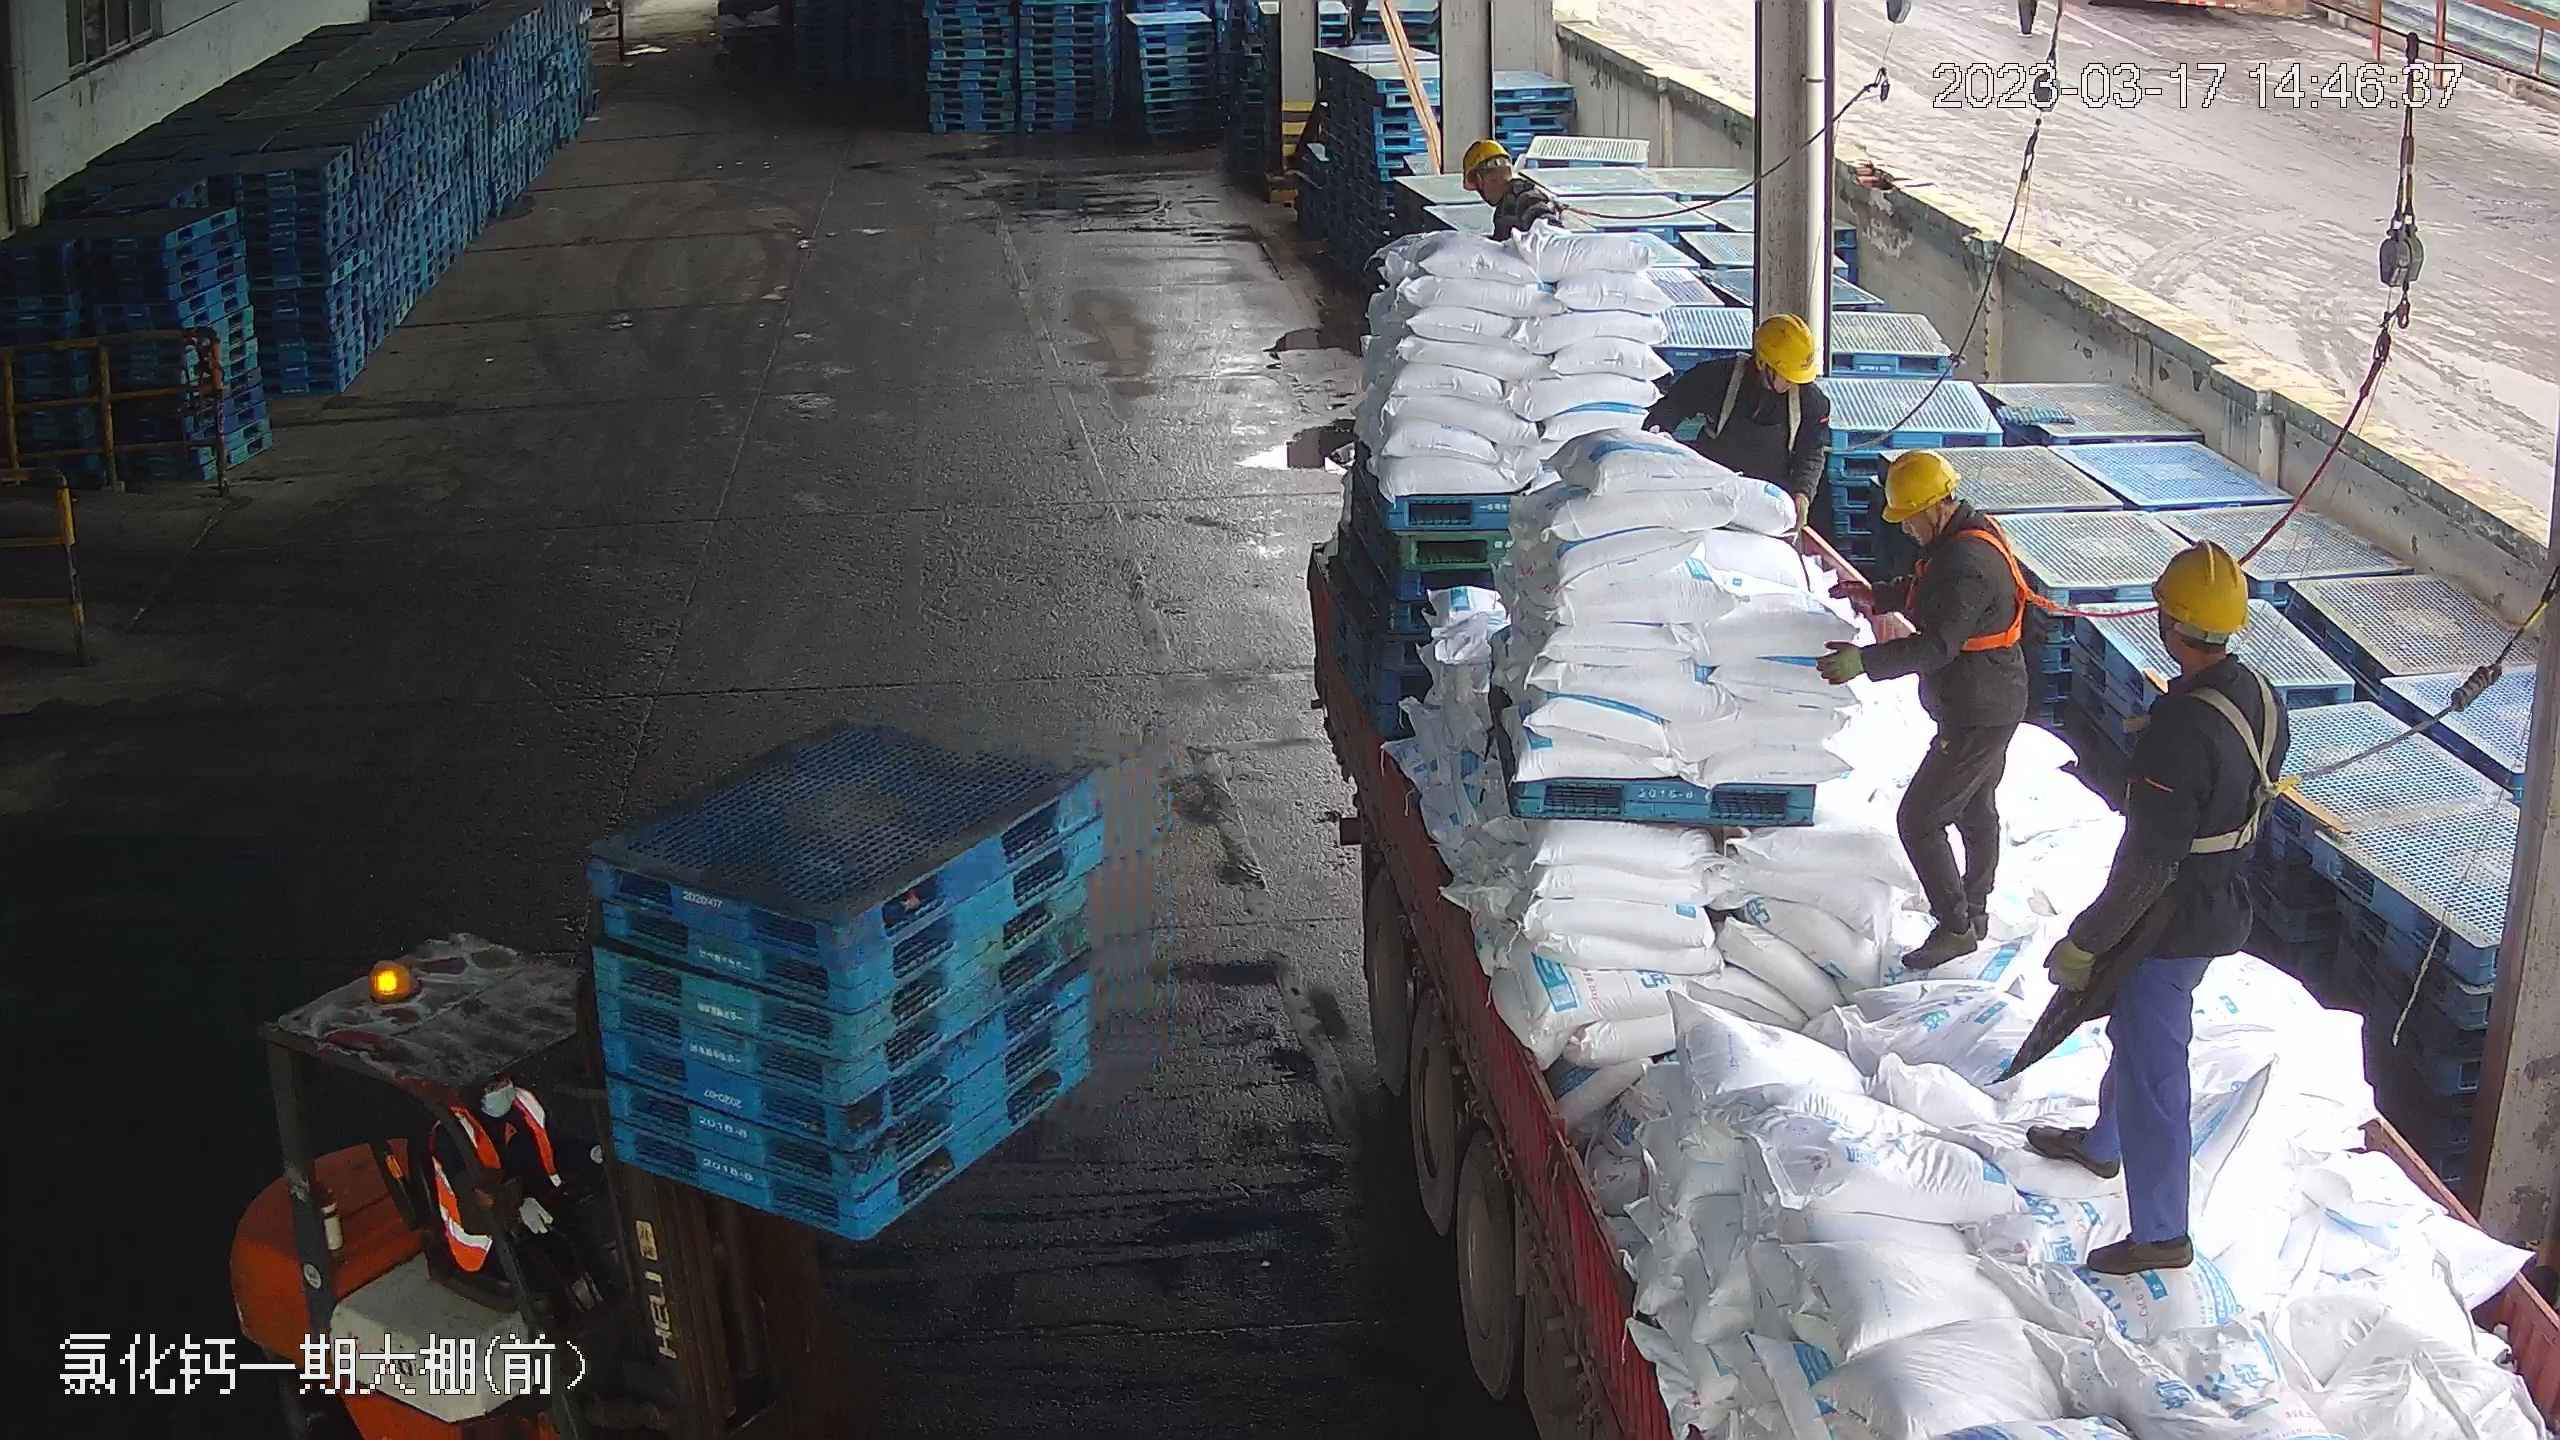belt: (2155, 668, 2301, 854), (1925, 510, 2051, 655), (1708, 354, 1795, 436), (1507, 173, 1569, 225)
head: (2126, 538, 2289, 761), (1873, 446, 2021, 611), (1674, 311, 1823, 440), (1462, 135, 1558, 231)
helmet: (1875, 447, 2018, 605), (2143, 538, 2253, 632), (1880, 447, 1961, 522), (1751, 309, 1819, 382), (1458, 136, 1511, 184)
people: (1994, 533, 2295, 1299), (1816, 448, 2030, 976)
truck: (1280, 148, 2539, 1440), (1816, 443, 2036, 978)
